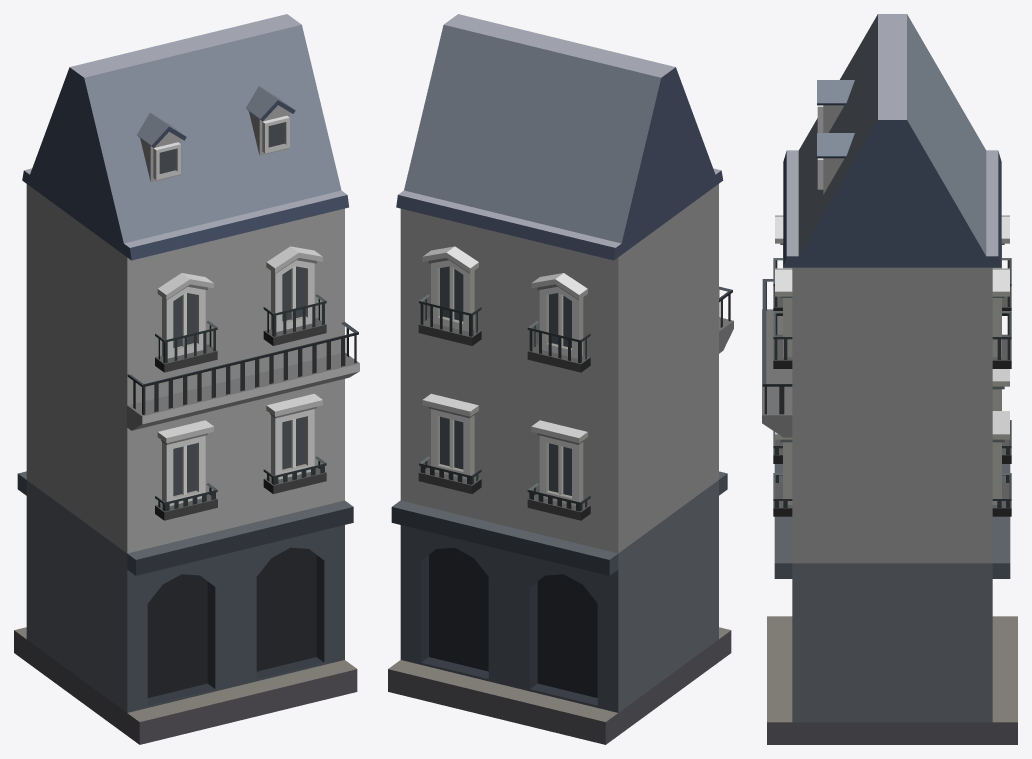
File: TB_CITY_BD_N_Line_3_A.FBX
3 views of the same model, side by side, from view 1: azimuth 30°, elevation 25°; view 2: azimuth 150°, elevation 25°; view 3: azimuth 270°, elevation 25° (orthographic).
Visible parts, largest first — view 1: TB_CITY_BD_N_Line_3_A; view 2: TB_CITY_BD_N_Line_3_A; view 3: TB_CITY_BD_N_Line_3_A.
Boxes of the visible parts, x1=… form: TB_CITY_BD_N_Line_3_A: x1=14, y1=14, x2=359, y2=744; TB_CITY_BD_N_Line_3_A: x1=388, y1=14, x2=733, y2=744; TB_CITY_BD_N_Line_3_A: x1=762, y1=14, x2=1017, y2=744.
Size of the model in its own units: 7.99 by 21.97 by 8.15.
